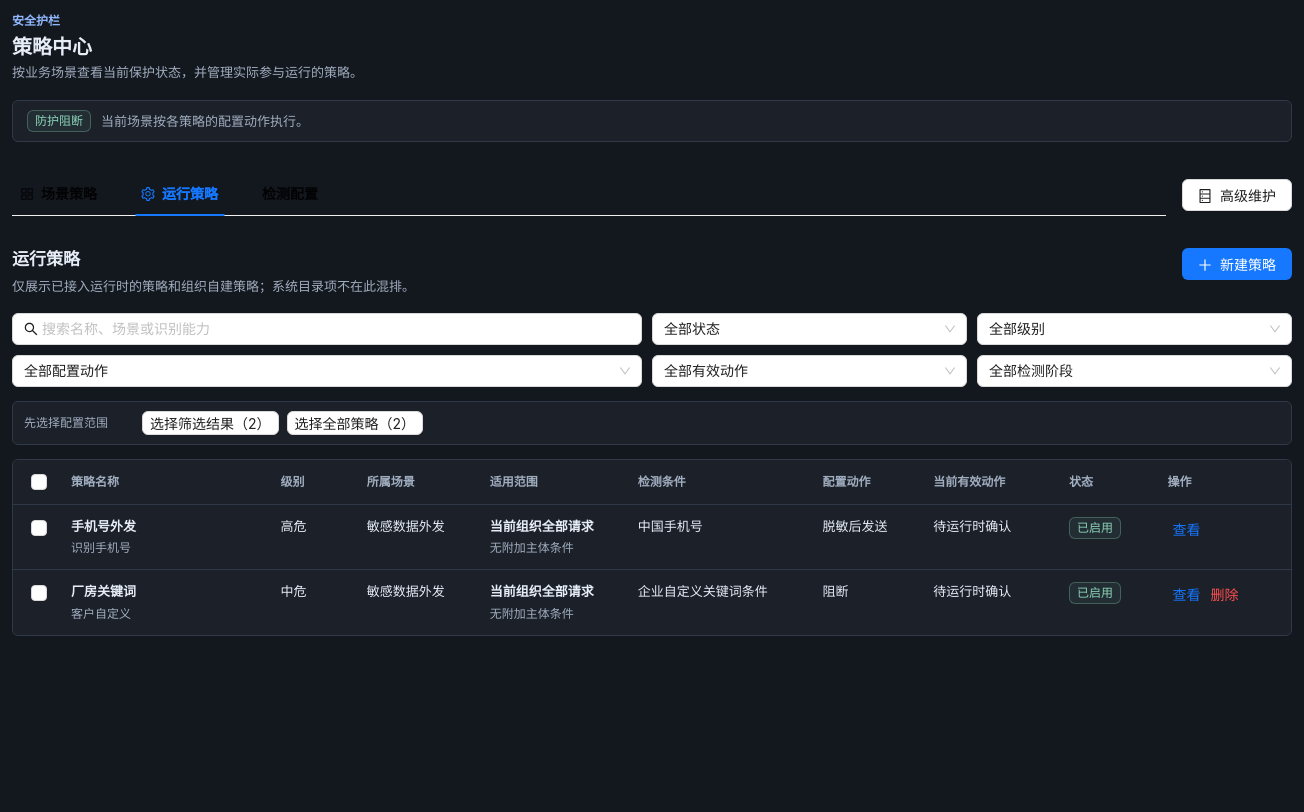
Test: 策略中心删除自定义策略 › 运行策略表的自建策略行内可以直接删除，内置策略行没有删除
Click the button with aria-label "删除策略 厂房关键词" at (1224, 594), box top-left (1205, 582), bottom-right (1243, 606)
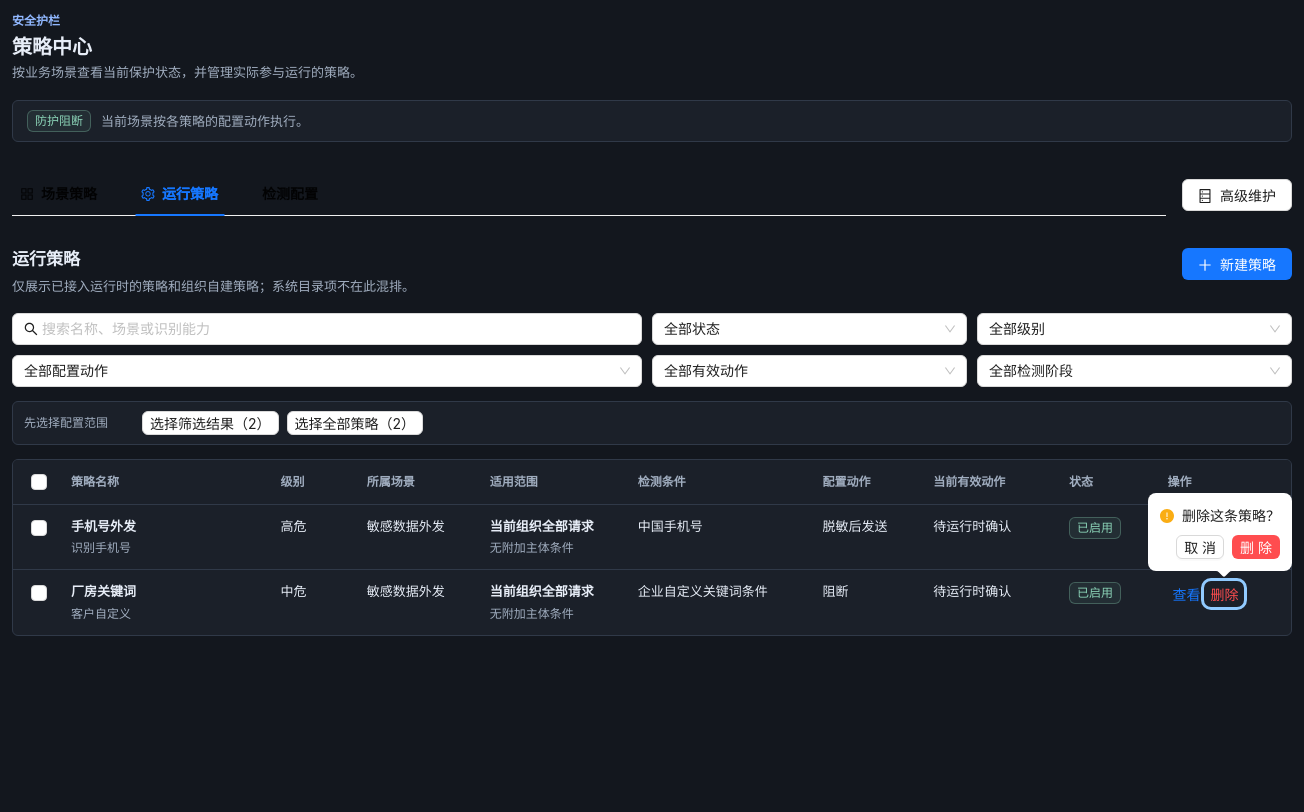
Click the button "删 除" at (1256, 547), box top-left (1232, 535), bottom-right (1280, 559)
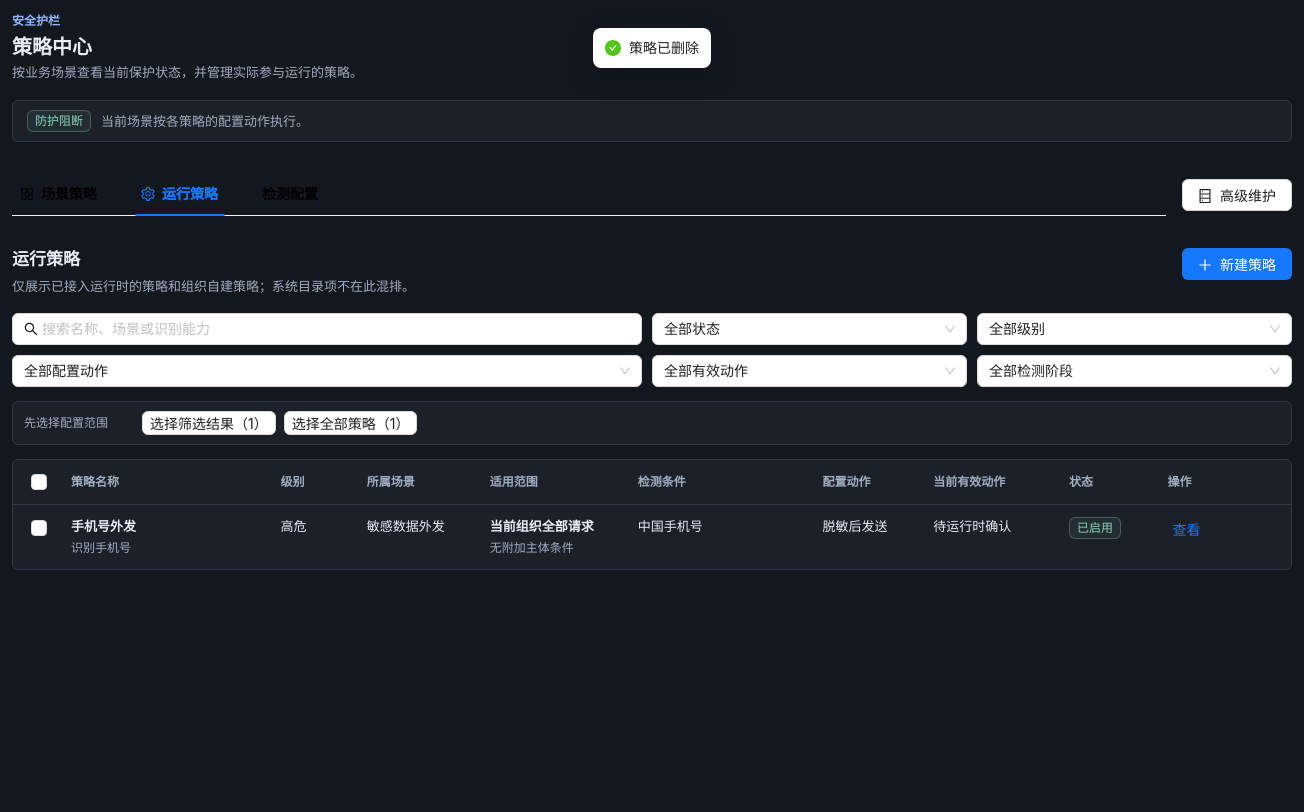
Check: the text "手机号外发" is shown, box top-left (71, 518), bottom-right (136, 534)
Check: the text "厂房关键词" is gone
